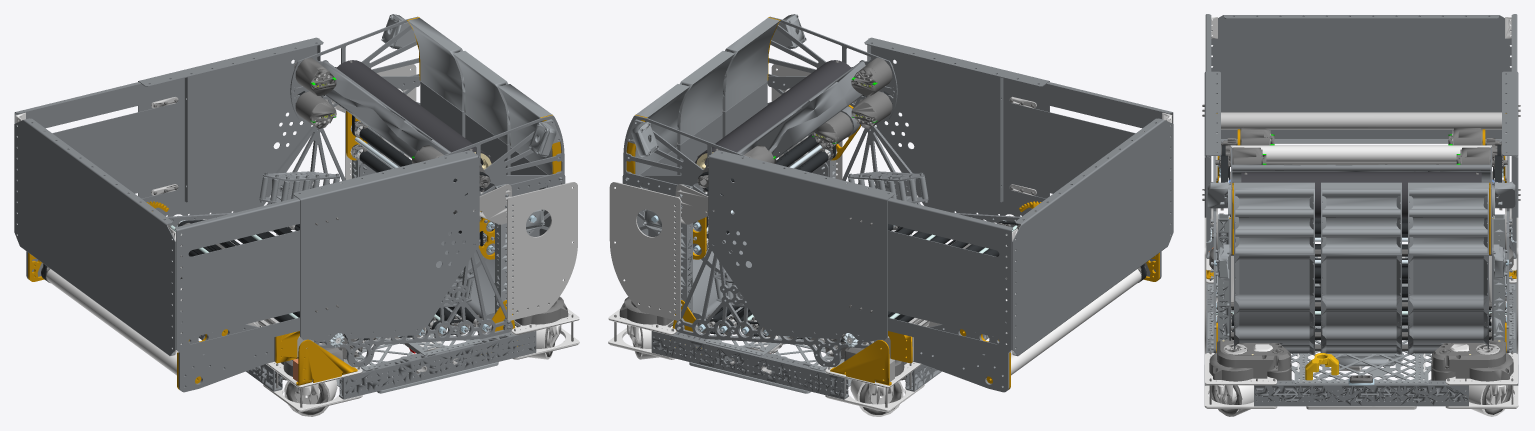
Rendered from matterhorn-9496.glb.
3 renders of one model, left to right at view 1: azimuth 30°, elevation 25°; view 2: azimuth 150°, elevation 25°; view 3: azimuth 270°, elevation 25°, orthographic. The views are drawn at different scales.
Visible parts, largest first — view 1: frame, hopper-ext, intake, flywheel, intake-roller-1, feeder-roller-1, feeder-roller-0; view 2: frame, hopper-ext, intake, flywheel, intake-roller-1, feeder-roller-1, feeder-roller-0; view 3: frame, hopper-ext, intake, intake-roller-0, flywheel.
Part boxes in pixels (box(x1,y1,x2,y2)): frame: box(138, 14, 579, 416); hopper-ext: box(14, 77, 338, 358); intake: box(26, 201, 314, 392); flywheel: box(336, 60, 492, 191); intake-roller-1: box(46, 269, 176, 375); feeder-roller-1: box(351, 121, 494, 231); feeder-roller-0: box(351, 144, 494, 254); frame: box(608, 14, 1049, 416); hopper-ext: box(849, 77, 1173, 358); intake: box(873, 201, 1161, 392); flywheel: box(695, 60, 851, 191); intake-roller-1: box(1011, 269, 1141, 375); feeder-roller-1: box(693, 134, 818, 231); feeder-roller-0: box(693, 147, 836, 254); frame: box(1204, 71, 1518, 416); hopper-ext: box(1202, 14, 1520, 218); intake: box(1210, 112, 1512, 224); intake-roller-0: box(1231, 145, 1491, 162); flywheel: box(1241, 172, 1481, 218).
Bounding box in the file's own units: 0.9858 × 0.5556 × 0.6966.
